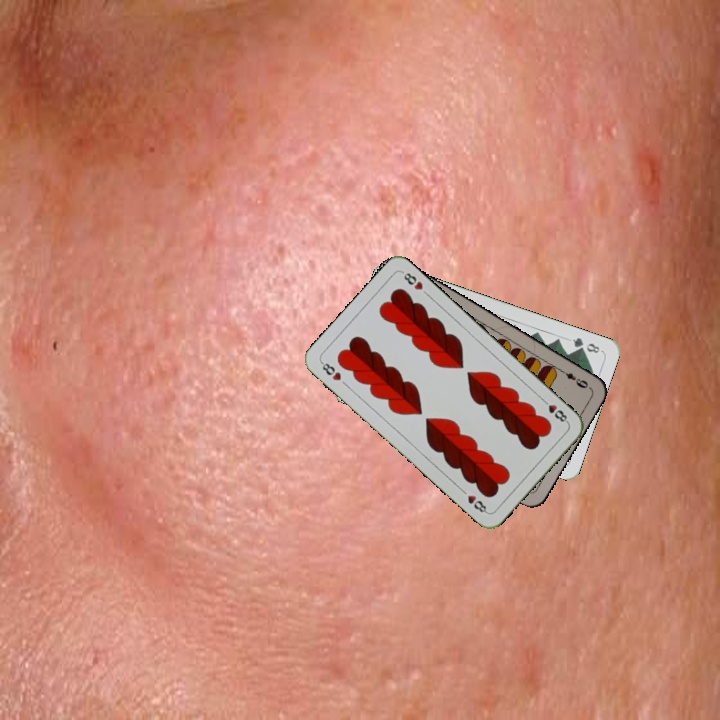E9: (555, 365, 591, 391)
G8: (568, 333, 604, 356)
H8: (538, 395, 571, 426), (317, 357, 344, 383)
